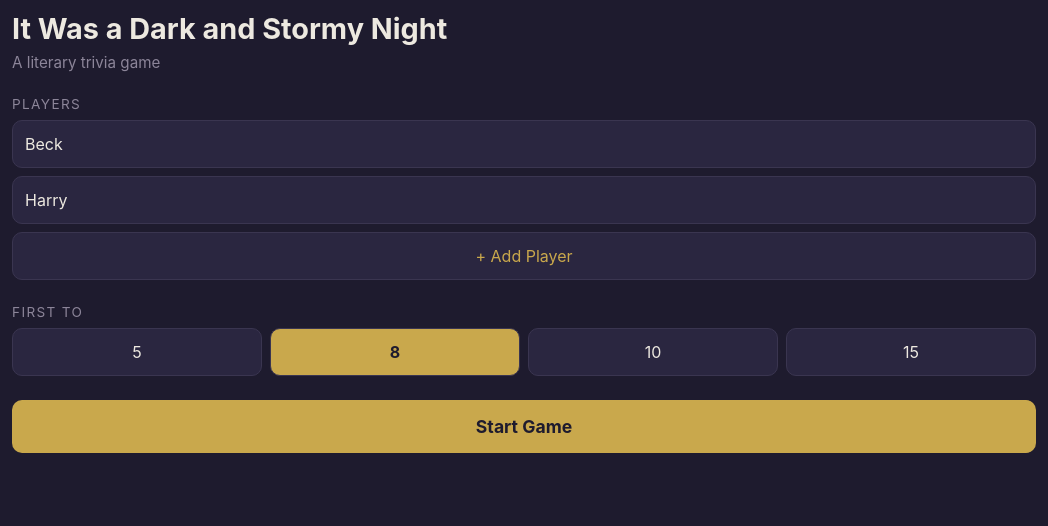
Test: Setup › removes a player when remove is clicked (keeps minimum 2)
Click the button "+ Add Player".
click(524, 256)  # box [12,232,1036,280]
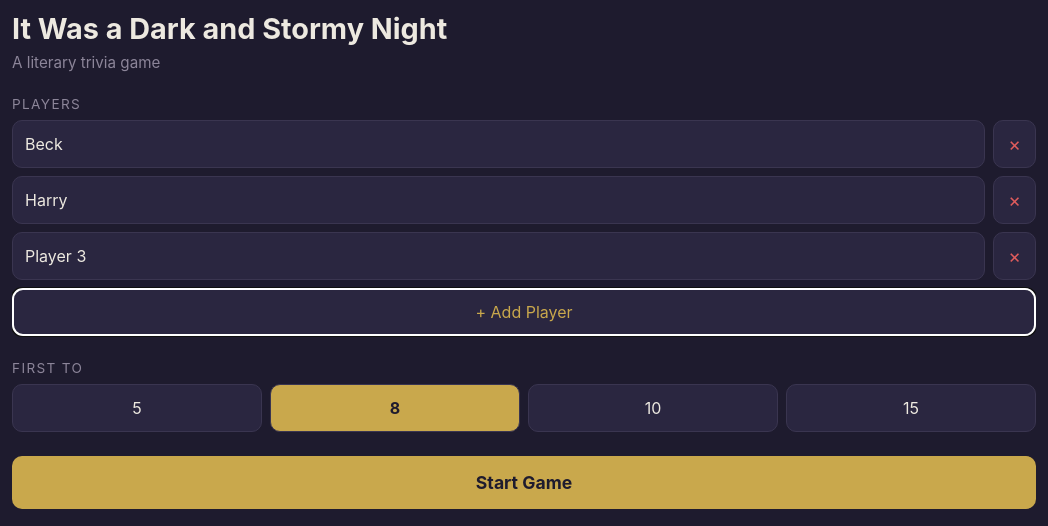
Click the button named "Remove player".
click(1015, 144)  # box [993,120,1036,168]
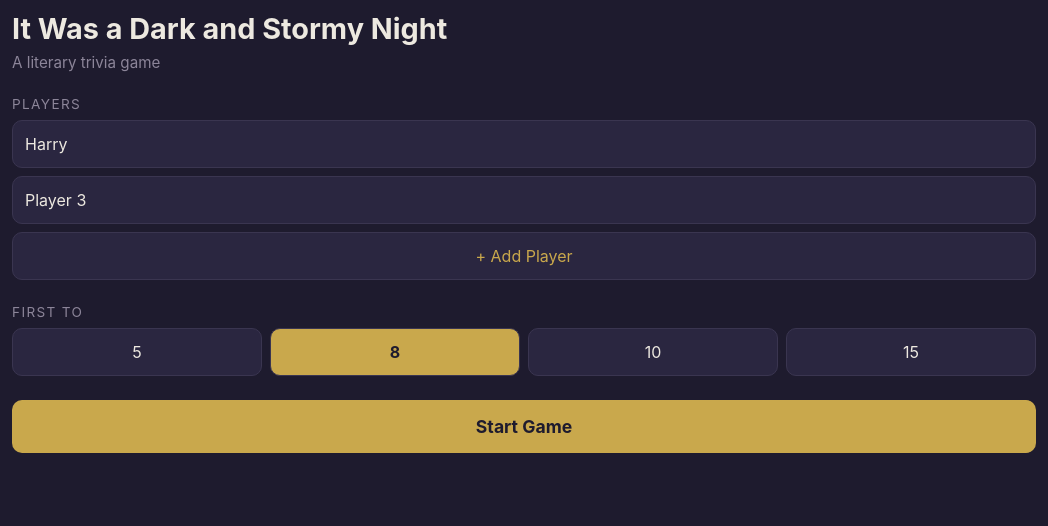
Expected: the number of fields is 2, [12,120,1036,168]; [12,176,1036,224]
